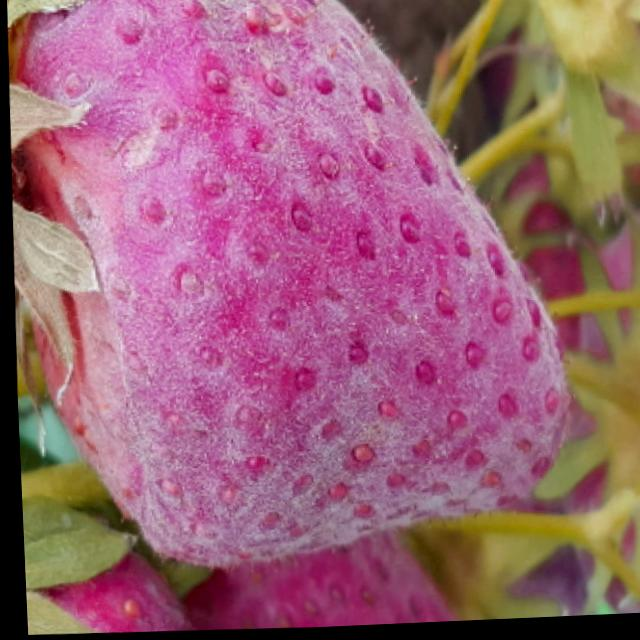Powdery Mildew Fruit: (6, 0, 570, 567), (18, 508, 193, 634)
